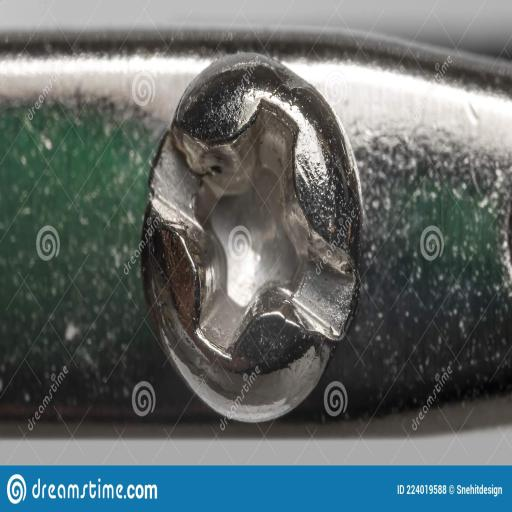Phillips: (141, 61, 365, 424)
